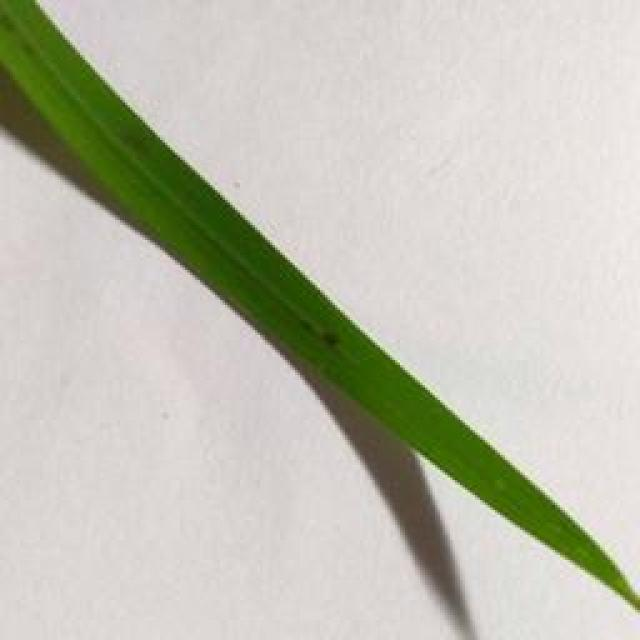Brown_Spot: (308, 322, 354, 358)
